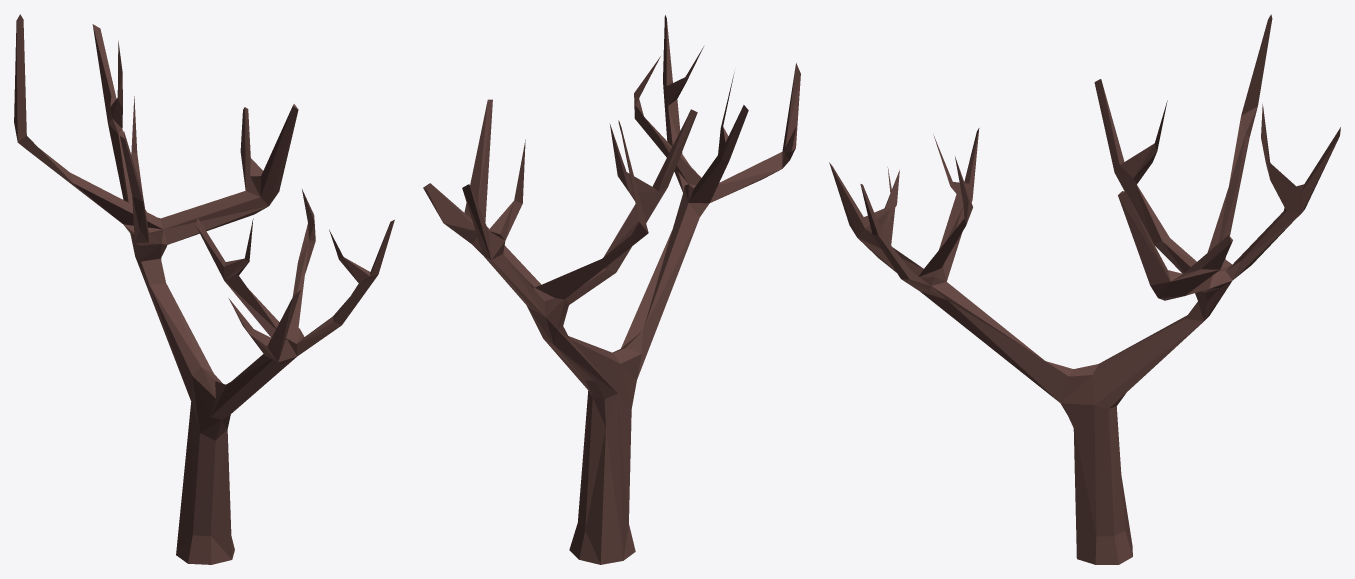
Rendered from CommonTree_Dead_1_lod.glb.
The picture shows the model from 3 angles, left to right: view 1: azimuth 30°, elevation 25°; view 2: azimuth 150°, elevation 25°; view 3: azimuth 270°, elevation 25°; orthographic projection. The views are drawn at different scales.
Visible parts, largest first — view 1: CommonTree_Dead_1; view 2: CommonTree_Dead_1; view 3: CommonTree_Dead_1.
Boxes of the visible parts, left/top/right/bottom form: CommonTree_Dead_1: left=14, top=14, right=394, bottom=564; CommonTree_Dead_1: left=423, top=15, right=800, bottom=564; CommonTree_Dead_1: left=829, top=14, right=1340, bottom=564.
Size of the model in its own units: 1.04 by 2.22 by 2.1.
